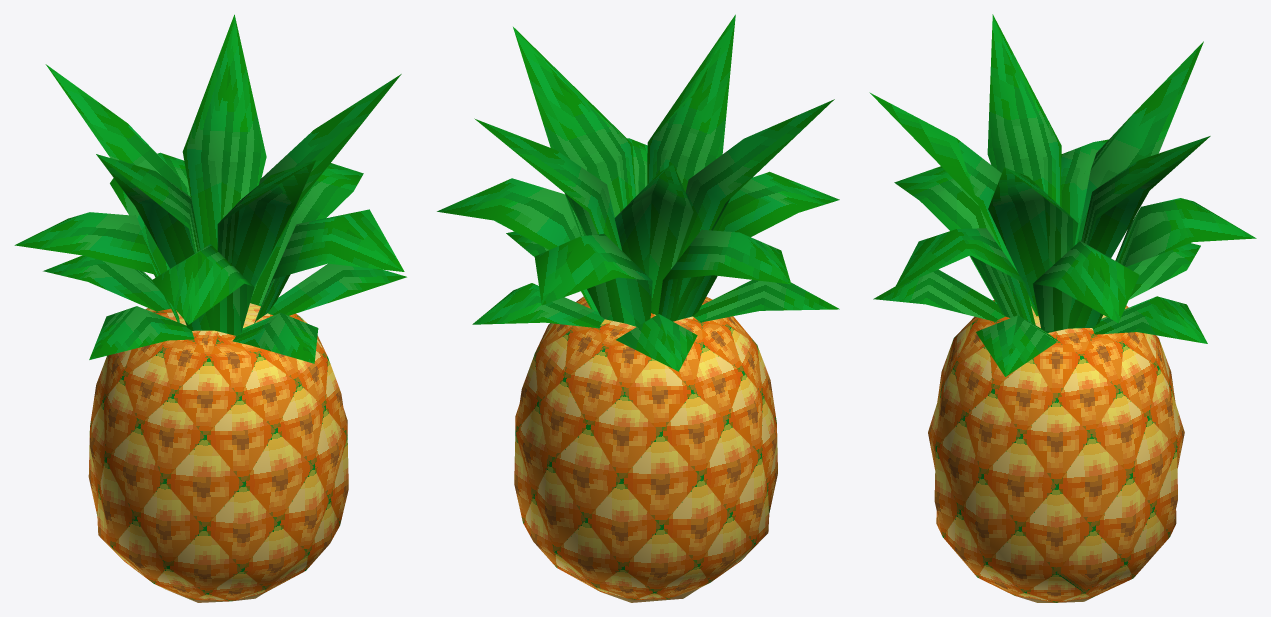
File: pineapple.dae
3 renders of one model, left to right at view 1: azimuth 30°, elevation 25°; view 2: azimuth 150°, elevation 25°; view 3: azimuth 270°, elevation 25°, orthographic.
Visible parts, largest first — view 1: n0b0; view 2: n0b0; view 3: n0b0.
Boxes of the visible parts, <box> form: n0b0: <box>14,14,406,602</box>; n0b0: <box>437,14,839,602</box>; n0b0: <box>869,14,1256,602</box>.
Bounding box in the file's own units: 0.4233 × 0.4036 × 0.5679.
Materials: 1 (1 with a texture image).
